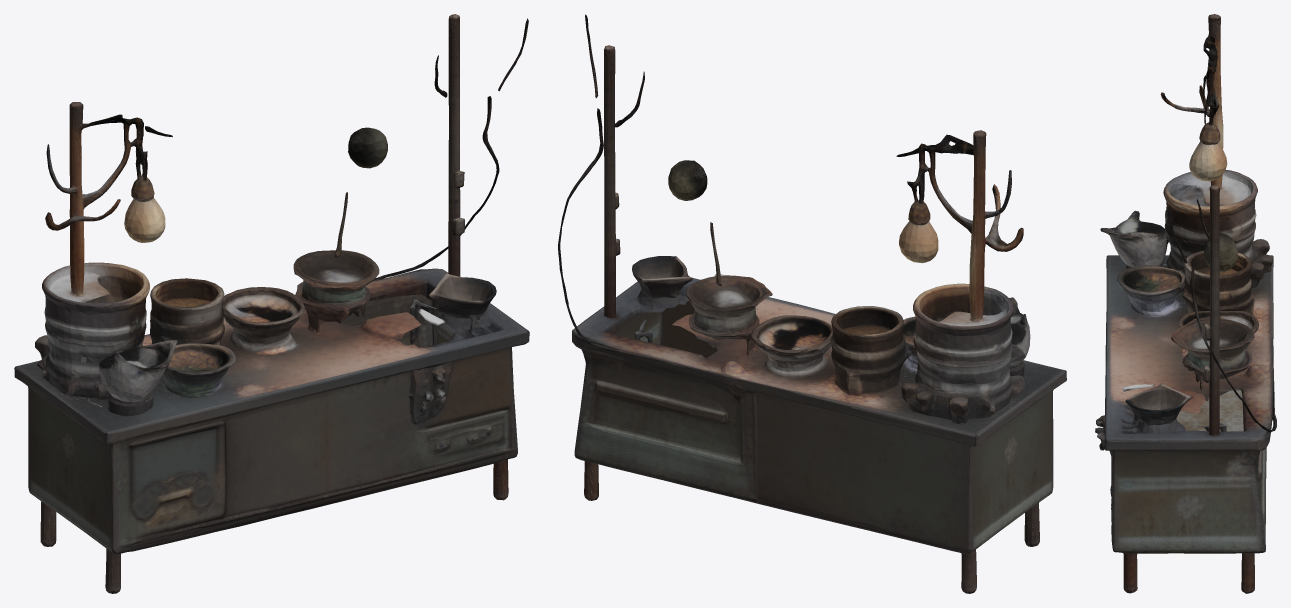
The picture shows the model from 3 angles, left to right: view 1: azimuth 30°, elevation 25°; view 2: azimuth 150°, elevation 25°; view 3: azimuth 270°, elevation 25°; orthographic projection. The views are drawn at different scales.
Parts seen in each view (by area): view 1: world.001; view 2: world.001; view 3: world.001.
Part boxes in pixels (x1,y1,x2,y2): world.001: (14,14,529,593); world.001: (558,14,1066,593); world.001: (1095,14,1276,593).
Size of the model in its own units: 96.46 by 90.02 by 36.09.
1 material, 1 textured.
